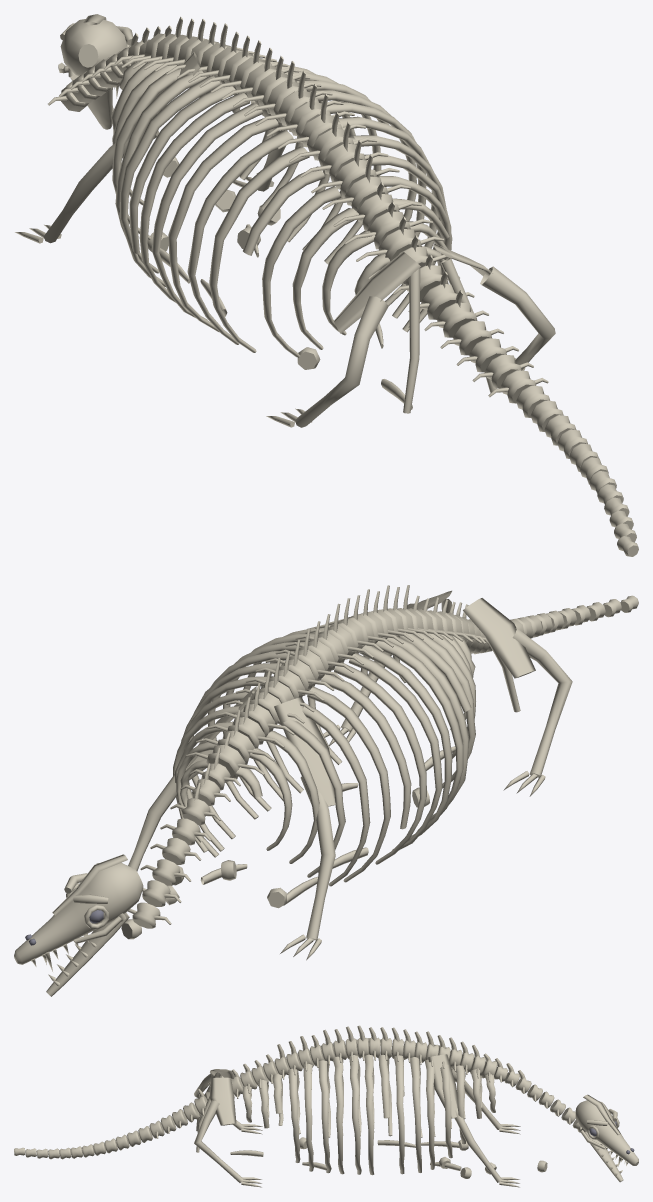
The model's file is GiantSkeleton.fbx.
The picture shows the model from 3 angles, top to bottom: view 1: azimuth 30°, elevation 25°; view 2: azimuth 150°, elevation 25°; view 3: azimuth 270°, elevation 25°; orthographic projection. The views are drawn at different scales.
Parts seen in each view (by area): view 1: GiantSkeleton; view 2: GiantSkeleton; view 3: GiantSkeleton.
Boxes of the visible parts, left/top/right/bottom form: GiantSkeleton: left=15, top=14, right=638, bottom=556; GiantSkeleton: left=14, top=585, right=638, bottom=996; GiantSkeleton: left=14, top=1025, right=638, bottom=1187.
Size of the model in its own units: 3.01 by 2.98 by 12.11.
